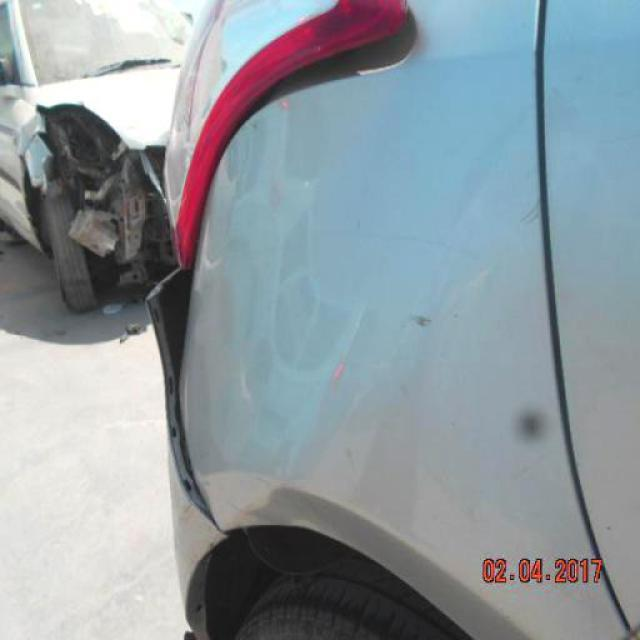car damage: (142, 266, 229, 540), (513, 401, 548, 447), (515, 196, 543, 236), (406, 302, 438, 336)
